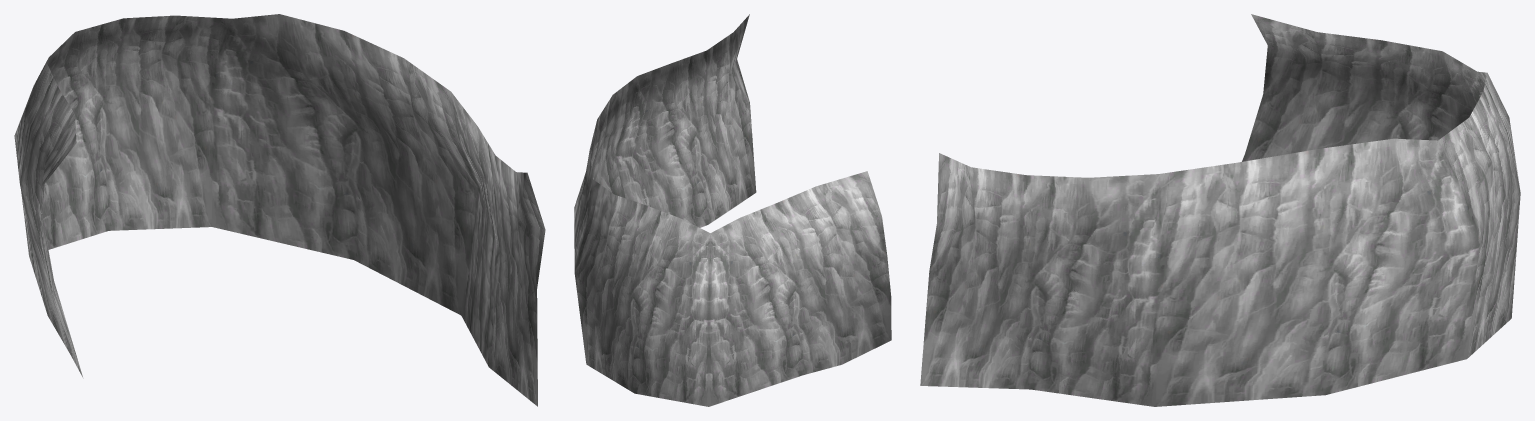
Rendered from SWORDLIGHT20_PS-AREA03_198.fbx.
The picture shows the model from 3 angles, left to right: view 1: azimuth 30°, elevation 25°; view 2: azimuth 150°, elevation 25°; view 3: azimuth 270°, elevation 25°; orthographic projection. The views are drawn at different scales.
Visible parts, largest first — view 1: SWORDLIGHT20_PS-AREA03_198; view 2: SWORDLIGHT20_PS-AREA03_198; view 3: SWORDLIGHT20_PS-AREA03_198.
Boxes of the visible parts, box(x1,y1,x2,y2) form: SWORDLIGHT20_PS-AREA03_198: box(14, 14, 545, 406); SWORDLIGHT20_PS-AREA03_198: box(574, 14, 891, 406); SWORDLIGHT20_PS-AREA03_198: box(920, 14, 1520, 406).
Size of the model in its own units: 90851 by 54515 by 119524.
Materials: 1 (1 with a texture image).
